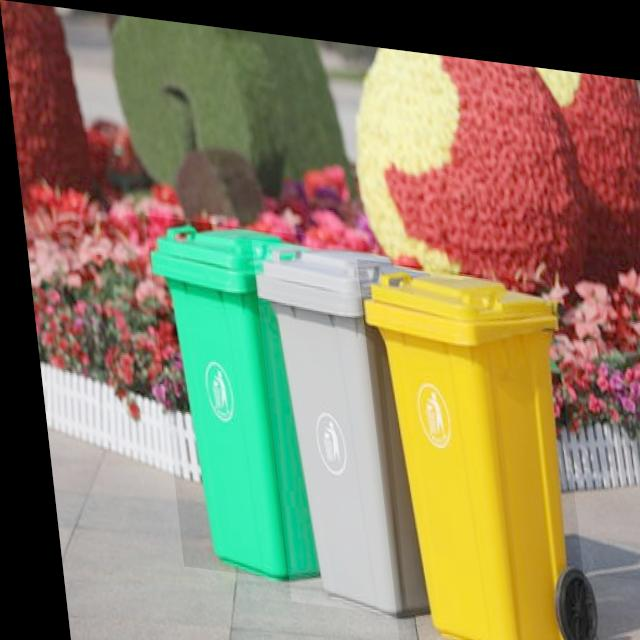garbage_bin: (352, 250, 579, 640), (246, 234, 454, 613), (140, 212, 332, 579)
